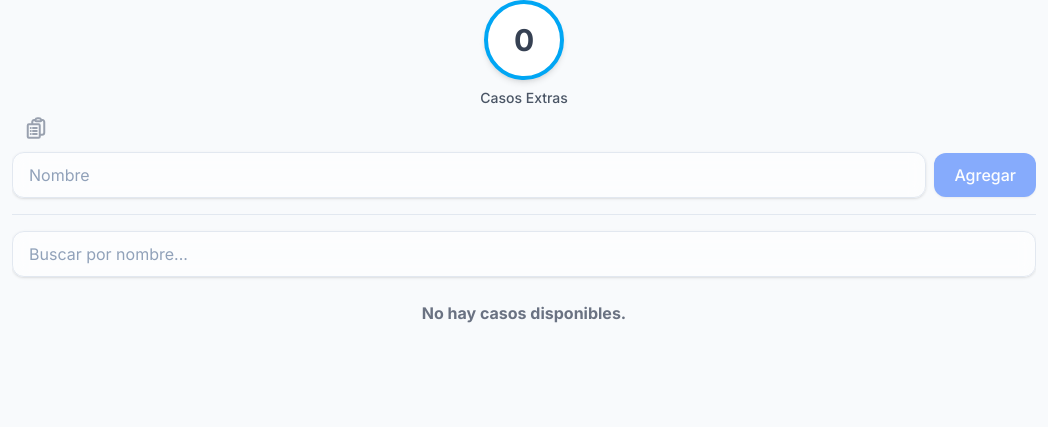
Cases.vue › adds a case via Enter key
Type "Enter Case" into the field named "Nombre del caso" at (469, 175), box [12,152,926,198]
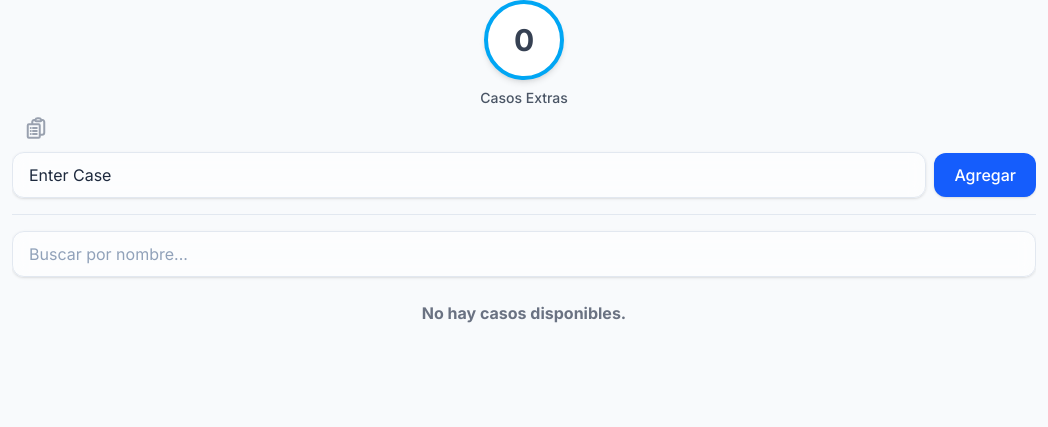
Press Enter in the field named "Nombre del caso", box [12,152,926,198]
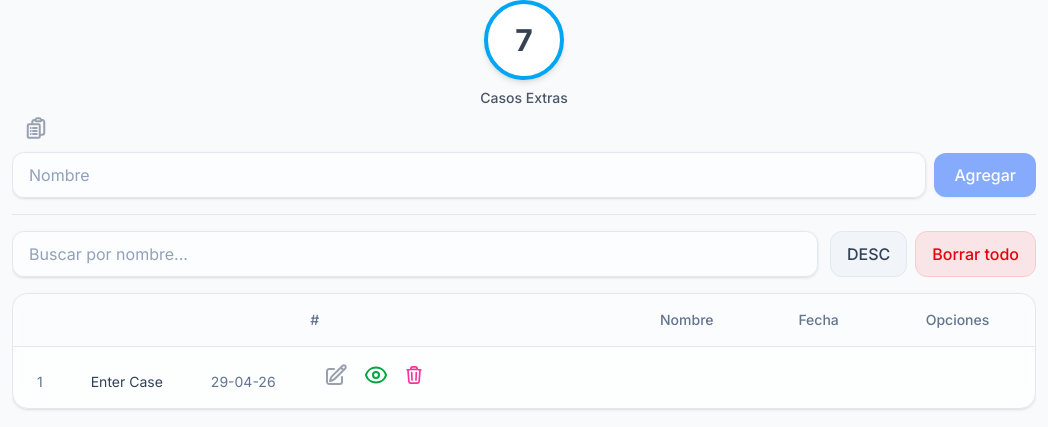
Check: the cell "Enter Case" is shown, box [67,347,187,408]
